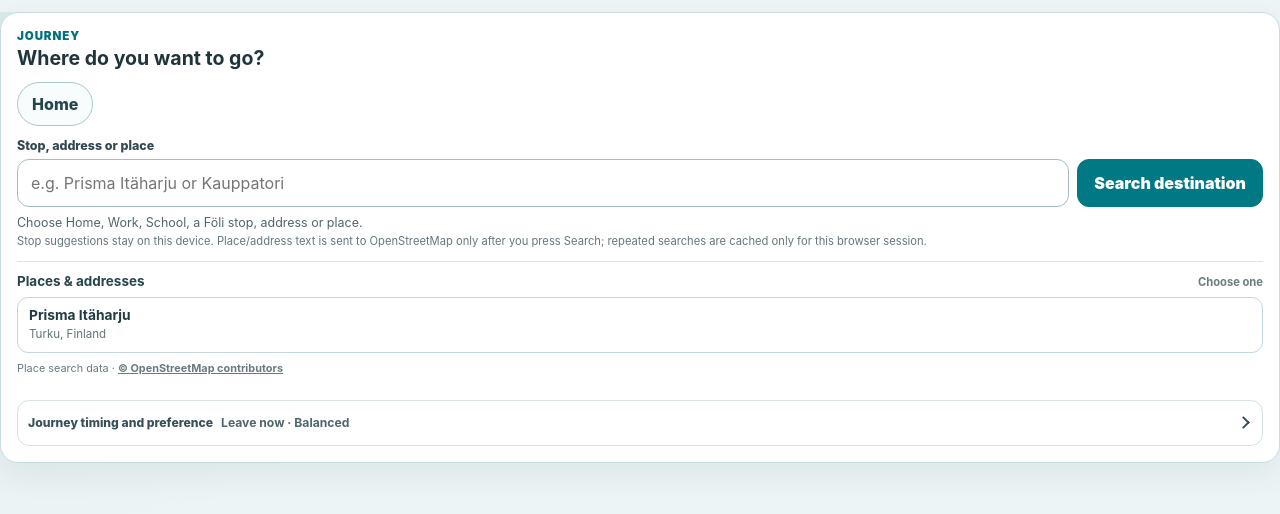
Test case: shows a specific error for a place outside the Föli service area
The image size is (1280, 514).
Click the button "Prisma Itäharju Turku, Finland" at (80, 315), box [17, 297, 1263, 353]
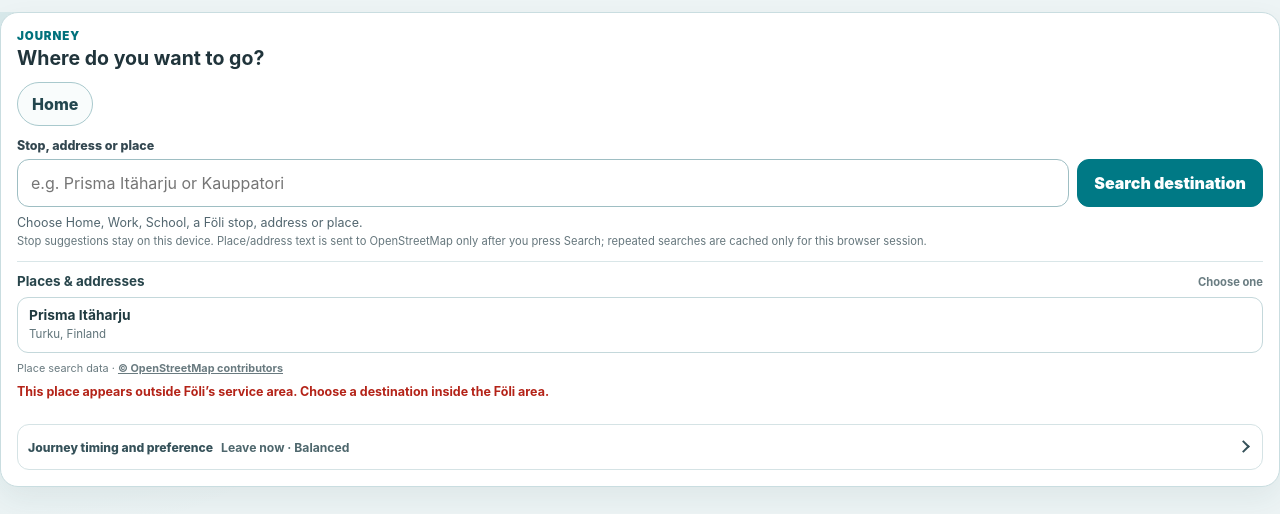
Result: the message shows "This place appears outside Föli’s service area." at [17, 384, 549, 398]
